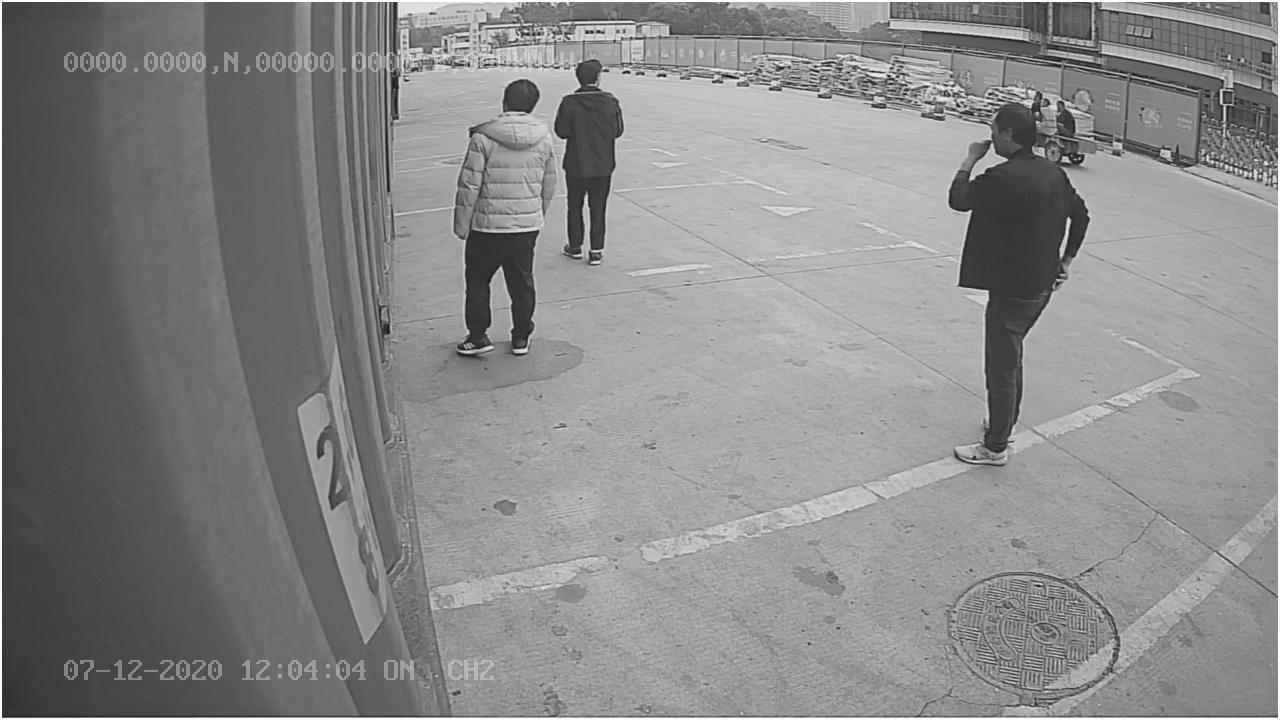person: (938, 98, 1092, 466), (443, 79, 558, 369)
